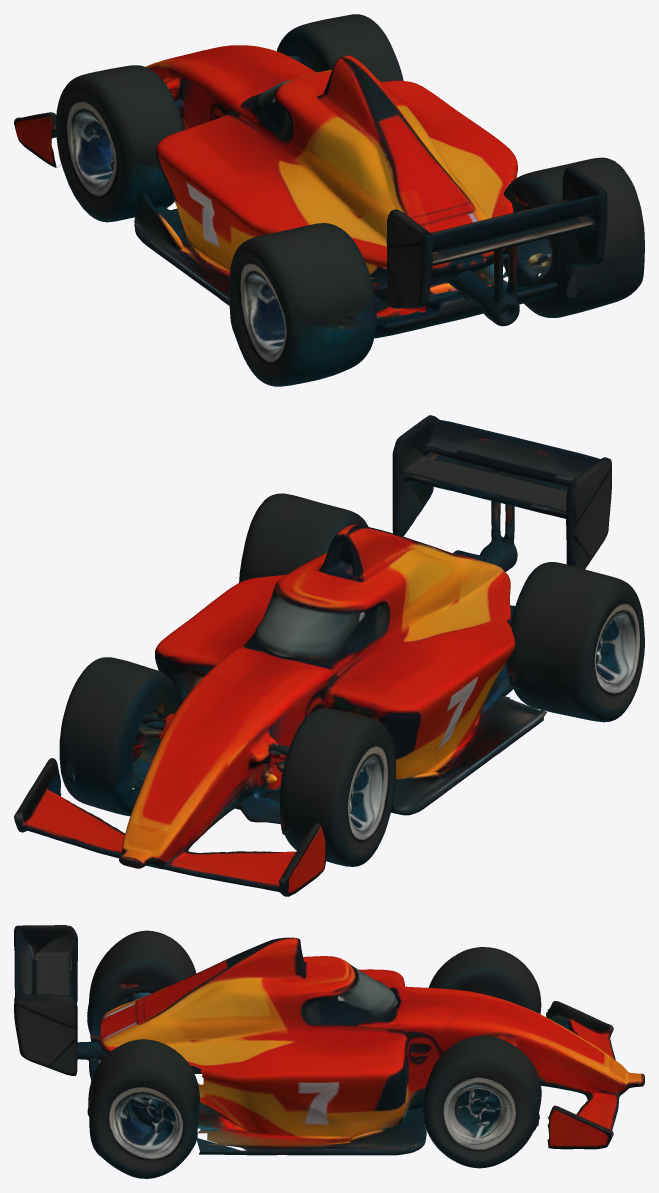
File: raceCar.glb
The picture shows the model from 3 angles, top to bottom: view 1: azimuth 30°, elevation 25°; view 2: azimuth 150°, elevation 25°; view 3: azimuth 270°, elevation 25°; orthographic projection. The views are drawn at different scales.
Visible parts, largest first — view 1: car_body, Wheel_BL, Wheel_FL, Wheel_BR, Wheel_FR; view 2: car_body, Wheel_BL, Wheel_FL, Wheel_FR, Wheel_BR; view 3: car_body, Wheel_BR, Wheel_FR, Wheel_BL, Wheel_FL.
Part boxes in pixels (x1,y1,x2,y2): car_body: (14, 45, 607, 338); Wheel_BL: (229, 223, 376, 386); Wheel_FL: (56, 65, 184, 222); Wheel_BR: (503, 157, 644, 317); Wheel_FR: (277, 14, 403, 82); car_body: (14, 415, 611, 896); Wheel_BL: (508, 562, 644, 722); Wheel_FL: (279, 708, 395, 866); Wheel_FR: (59, 657, 179, 816); Wheel_BR: (239, 493, 368, 582); car_body: (14, 925, 644, 1155); Wheel_BR: (87, 1039, 199, 1178); Wheel_FR: (422, 1035, 541, 1168); Wheel_BL: (87, 930, 196, 1034); Wheel_FL: (428, 947, 541, 1013).
Size of the model in its own units: 0.5074 by 0.2927 by 0.9474.
1 material, 1 textured.
